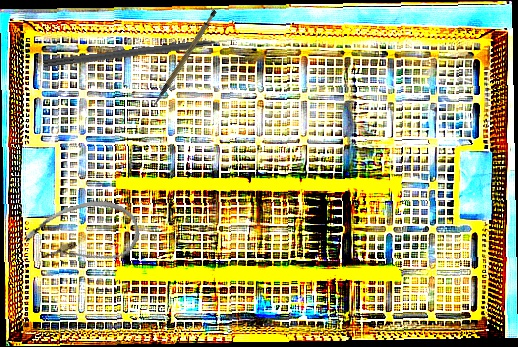Cannula: (20, 190, 145, 281)
Hook Surgical: (43, 35, 241, 71)
Scalpel Handle: (139, 8, 229, 107)
